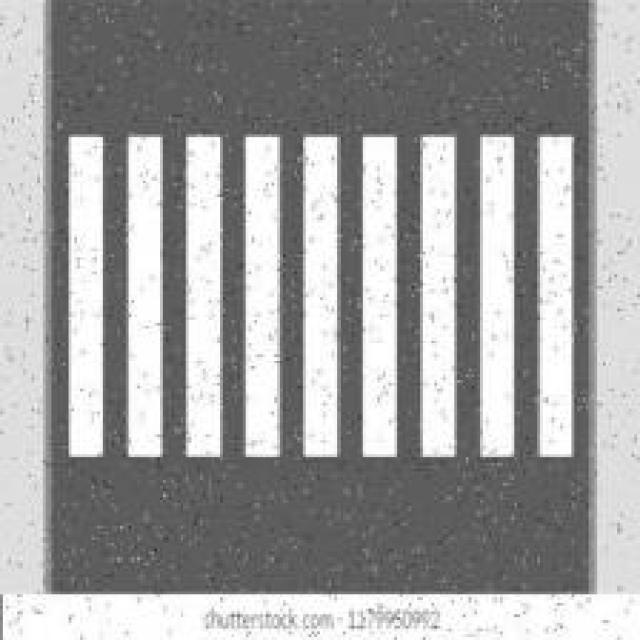crosswalk: (60, 129, 578, 467)
